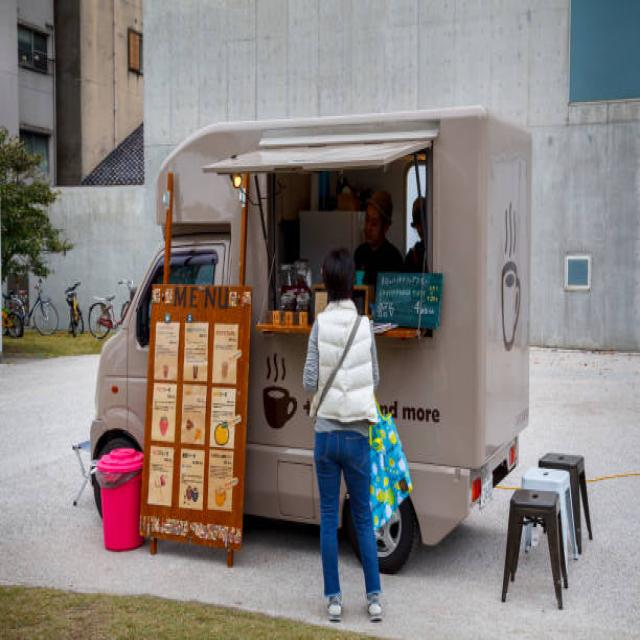Emperan: (64, 97, 543, 584)
